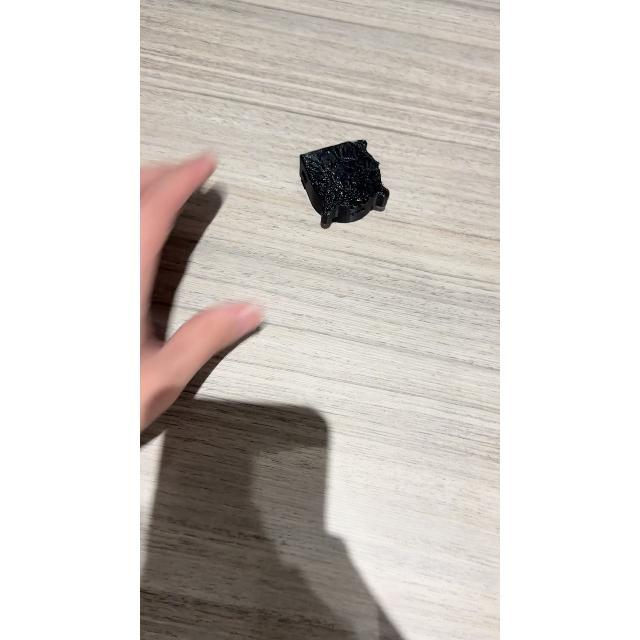Pieza3: (292, 134, 400, 240)
